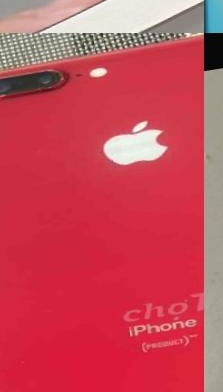scratch: (1, 346, 43, 382), (0, 62, 48, 82), (39, 63, 73, 91), (0, 71, 11, 110)
